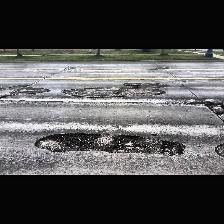pothole: (50, 134, 102, 148), (112, 134, 144, 152), (160, 140, 184, 154), (134, 84, 140, 88)
